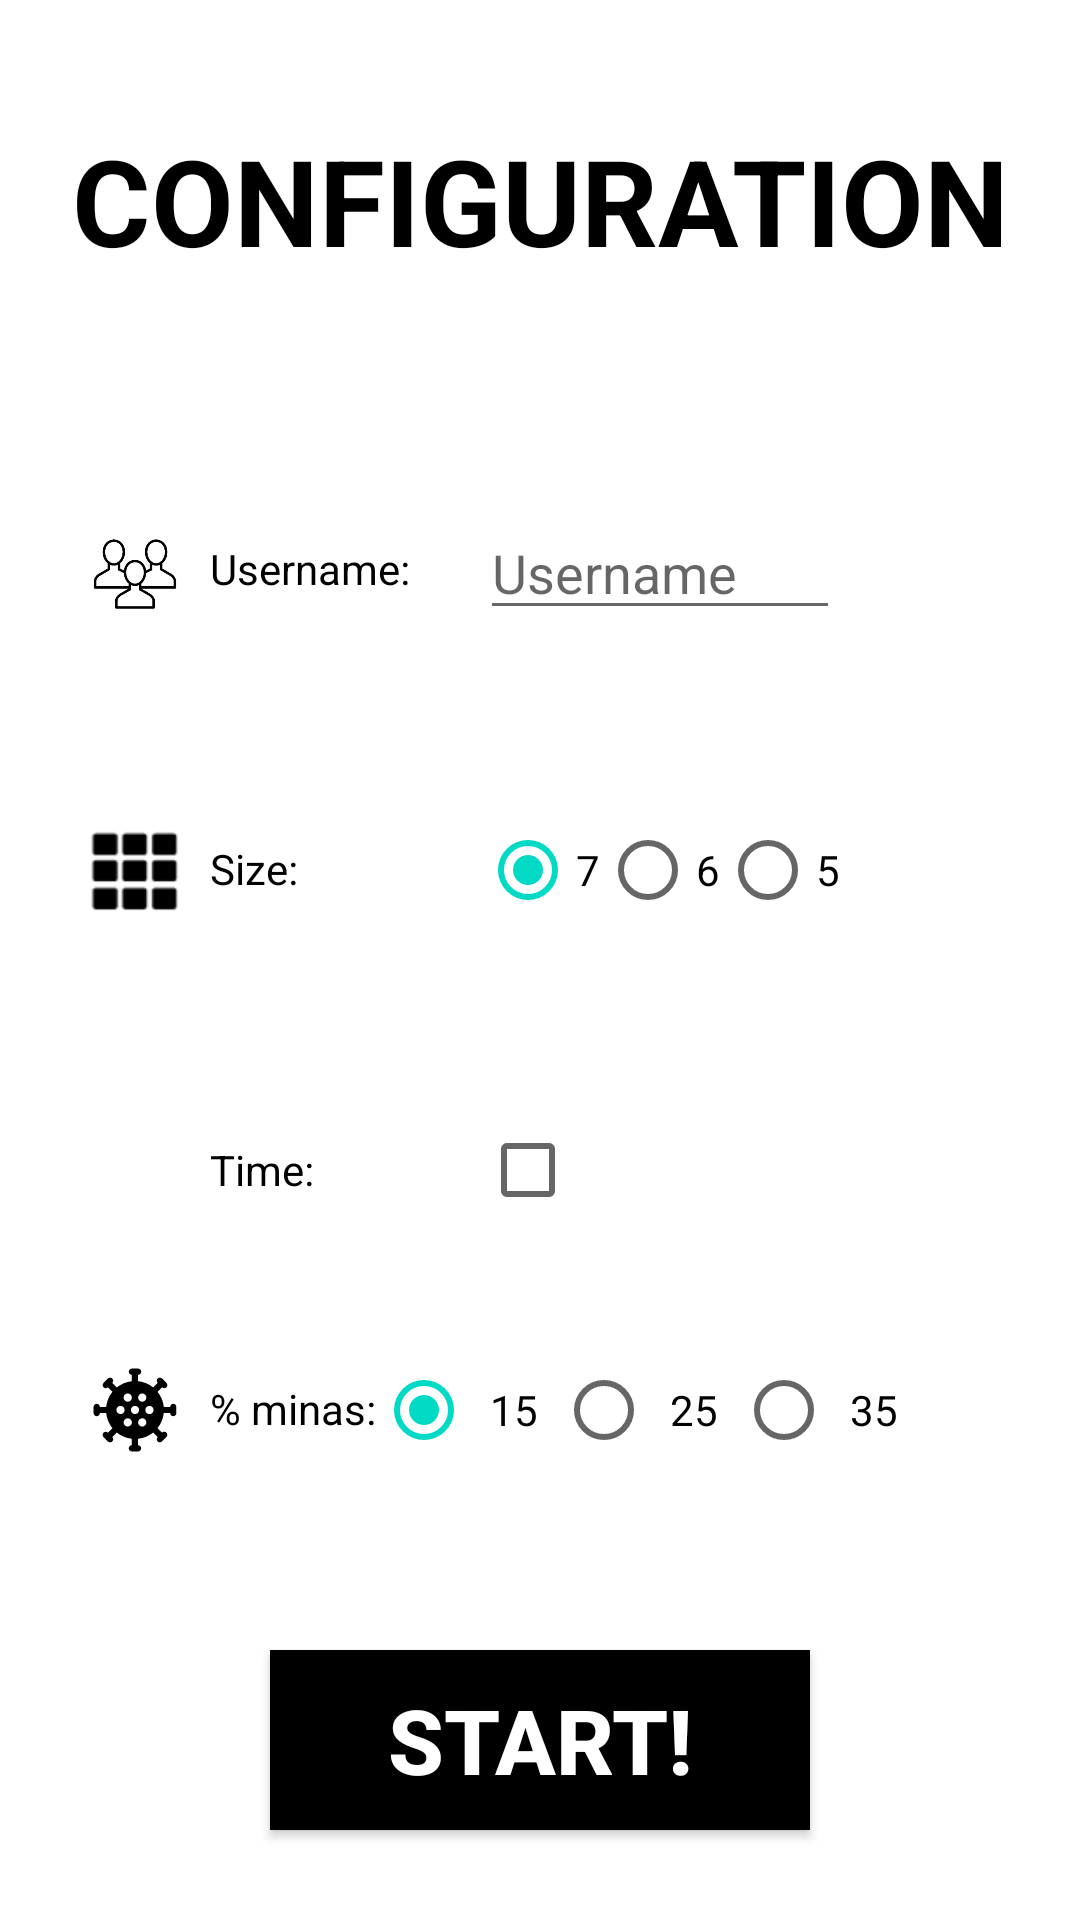

Screen size 1080 × 1920. Icon name, then its box in pixels as (x1, y1, x2, y2):
dialer: (91, 832, 178, 910)
